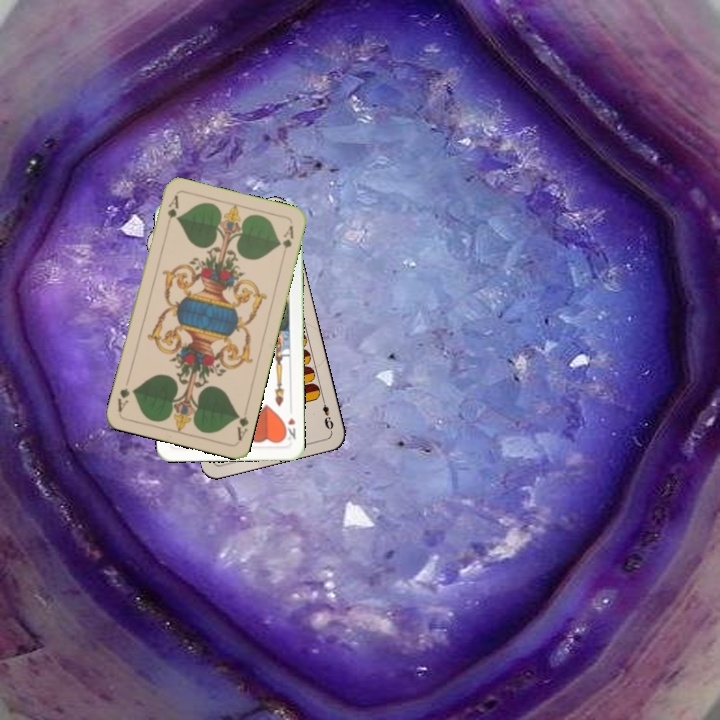E9: (318, 394, 336, 432)
GA: (162, 191, 181, 231), (232, 410, 251, 443)
HK: (280, 414, 298, 442)
